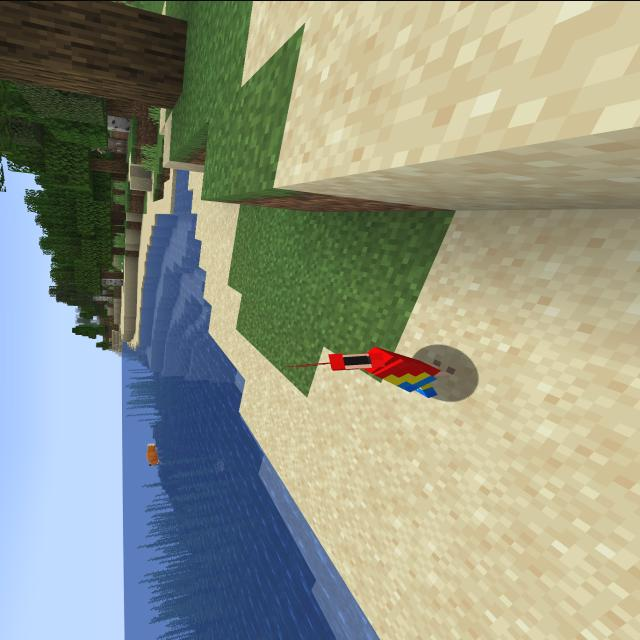Fox: (139, 440, 170, 467)
